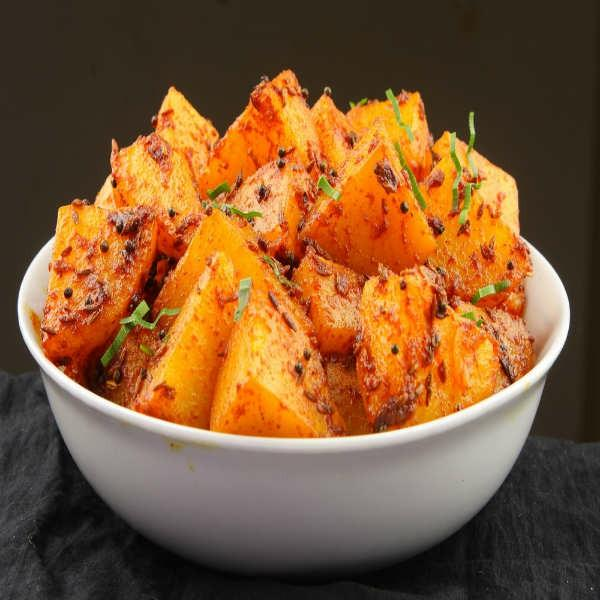AlooMasala: (38, 69, 535, 439)
